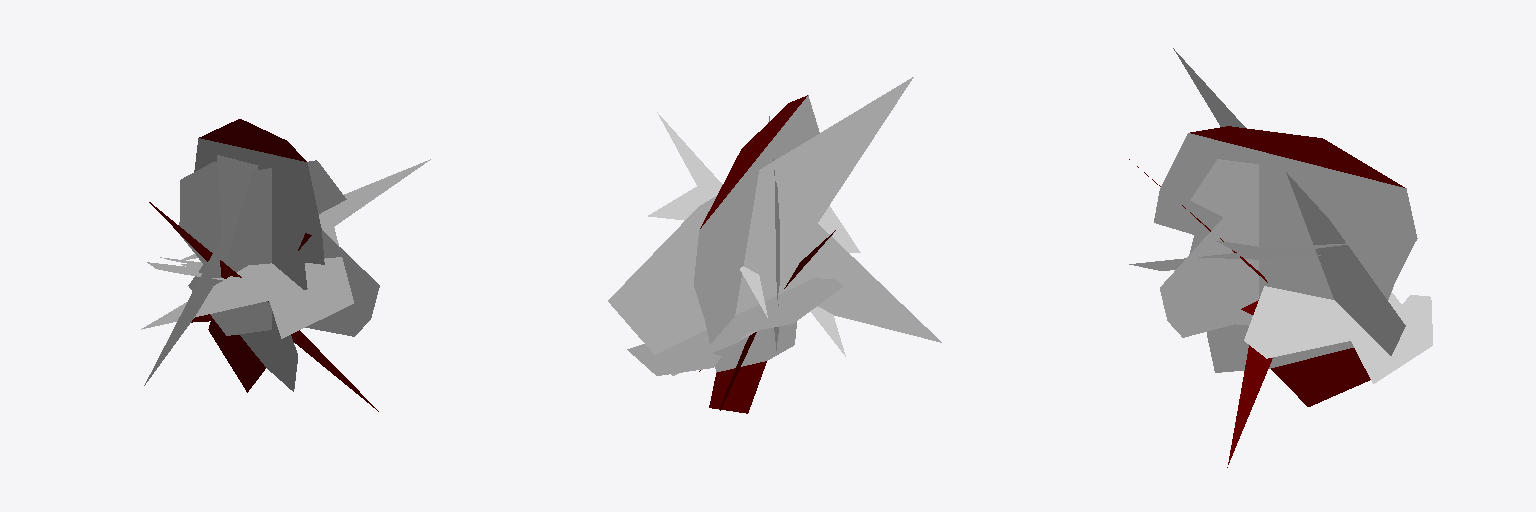
File: junk.obj
3 views of the same model, side by side, from view 1: azimuth 30°, elevation 25°; view 2: azimuth 150°, elevation 25°; view 3: azimuth 270°, elevation 25° (orthographic).
Visible parts, largest first — view 1: junk_Plane.002; view 2: junk_Plane.002; view 3: junk_Plane.002.
Part boxes in pixels (x1,y1,x2,y2): junk_Plane.002: (141,119,430,411); junk_Plane.002: (608,77,941,413); junk_Plane.002: (1129,48,1432,467).
Bounding box in the file's own units: 1.18 × 1.27 × 1.08.